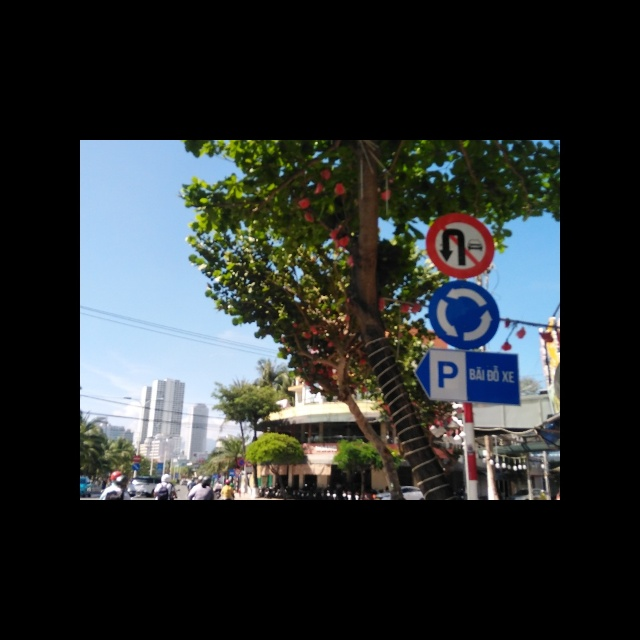Cấm xe ô tô quay đầu: (425, 212, 495, 278)
Nơi giao nhau chạy theo vòng xuyến: (430, 280, 501, 348)
Nơi đỗ xe: (410, 349, 522, 406)
